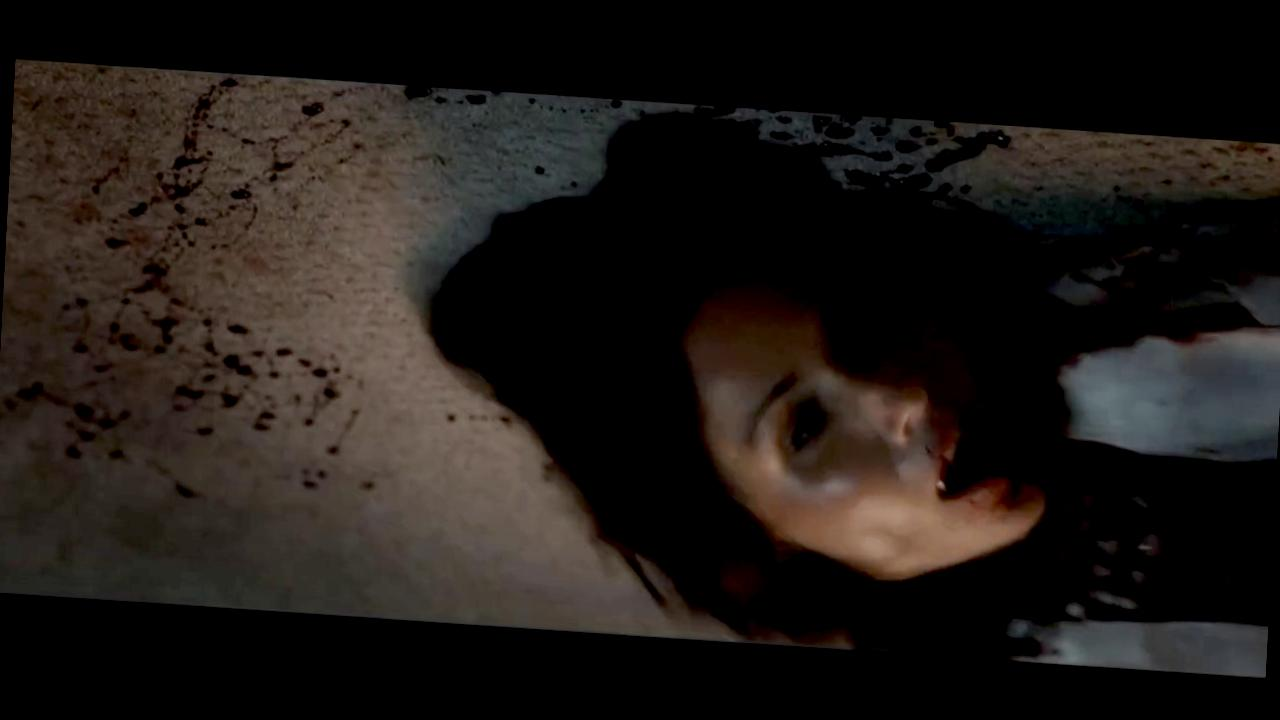Fire: (3, 62, 1001, 573), (1020, 243, 1280, 406), (923, 452, 1047, 533)
